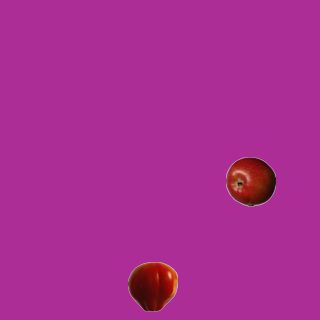Apple Braeburn: (225, 156, 275, 206)
Tomato 1: (127, 261, 177, 311)
